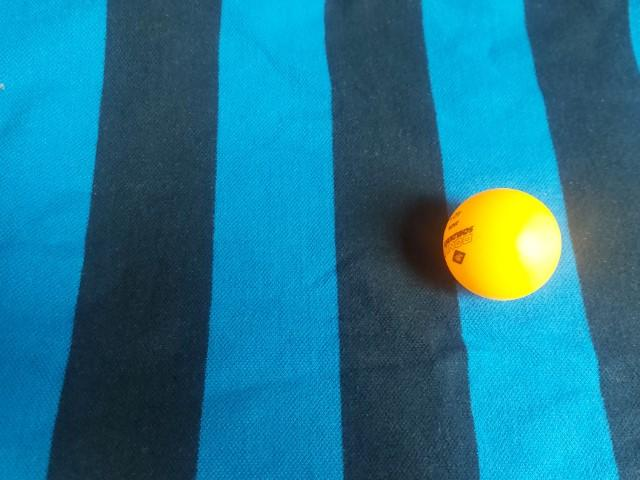oball: (71, 172, 203, 299)
